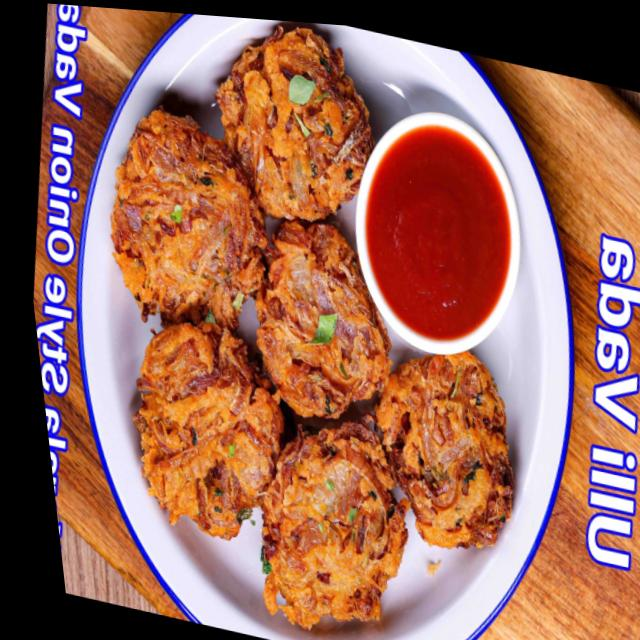RED CHUTNEY: (363, 129, 509, 340)
VADA: (109, 22, 514, 631)
